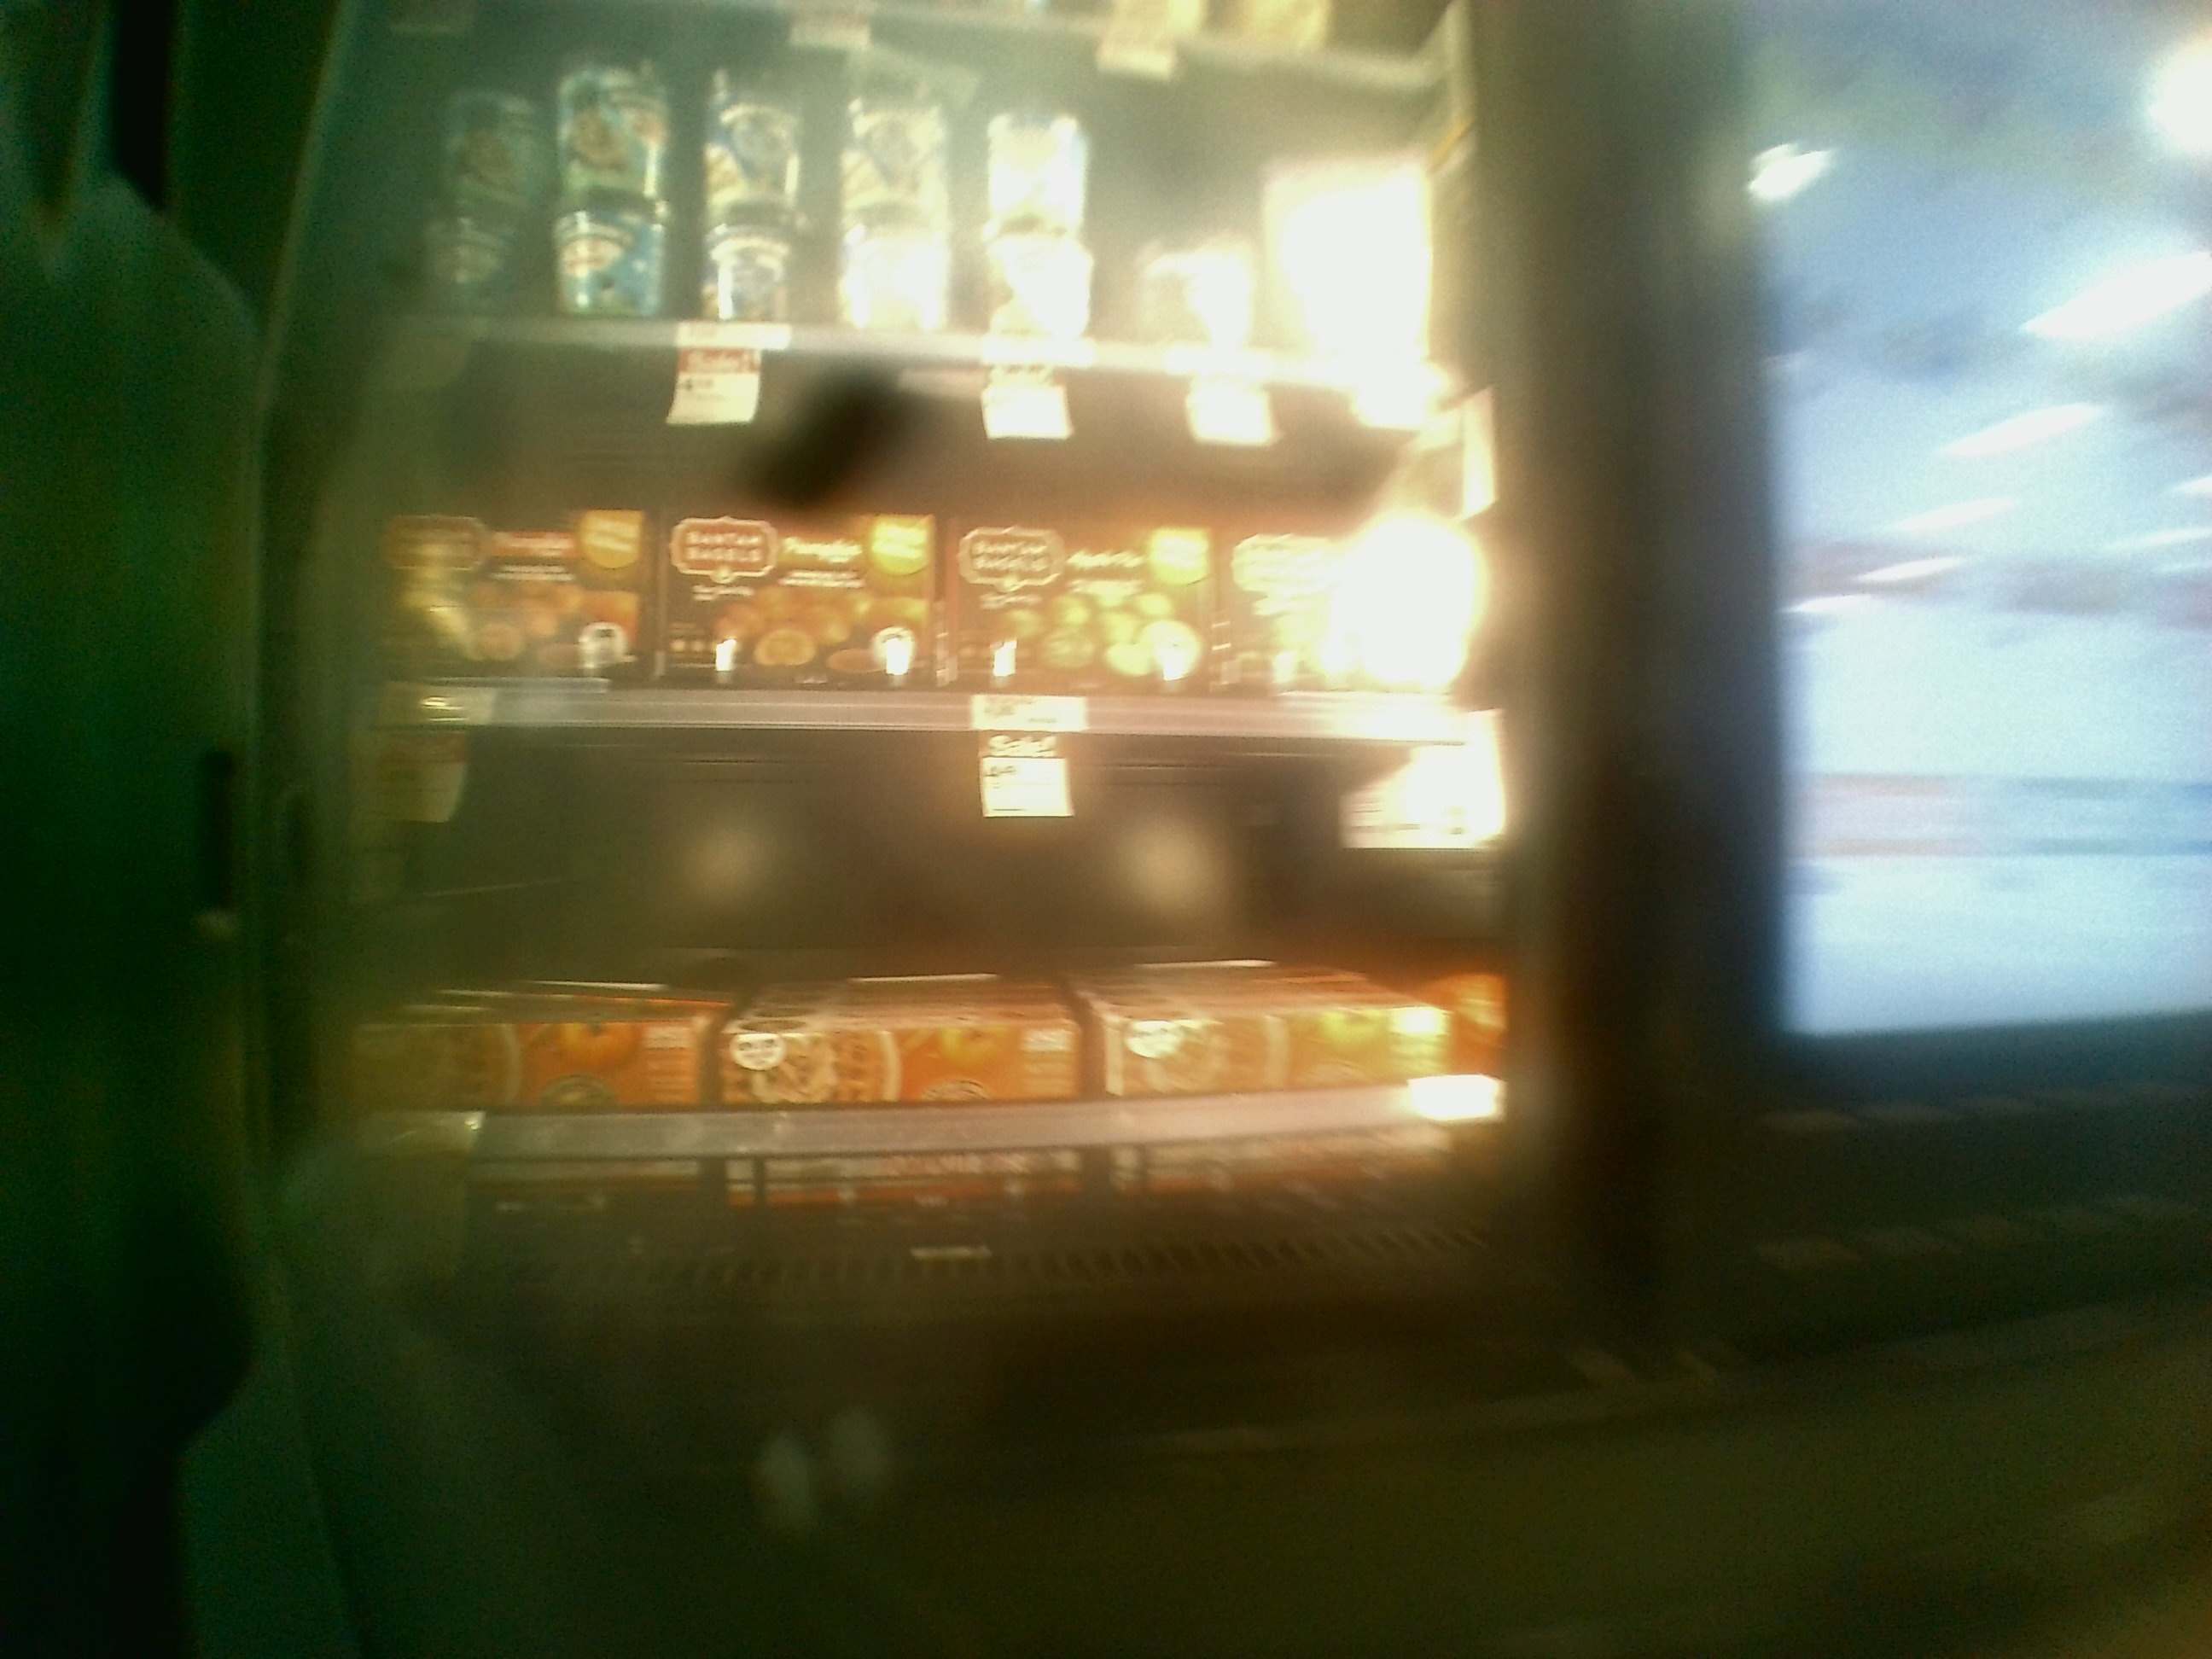shelf: (345, 708, 1561, 1380), (354, 324, 1527, 748)
